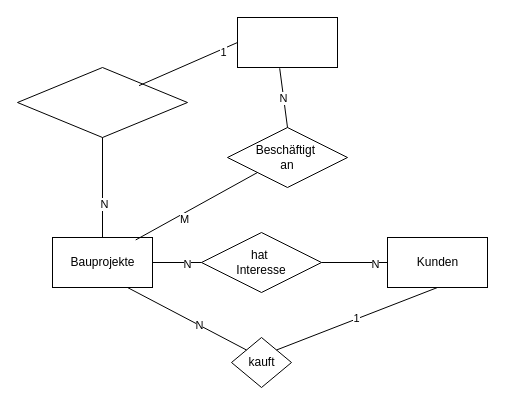
Image size: 505x405. Some labels were removed from this diagram. The box of each missing label's shape, as (x1, y1, x2, y2) in pixels:
hat Bauverantwortlichen: (16, 66, 188, 138)
Mitarbeiter: (236, 16, 338, 68)
